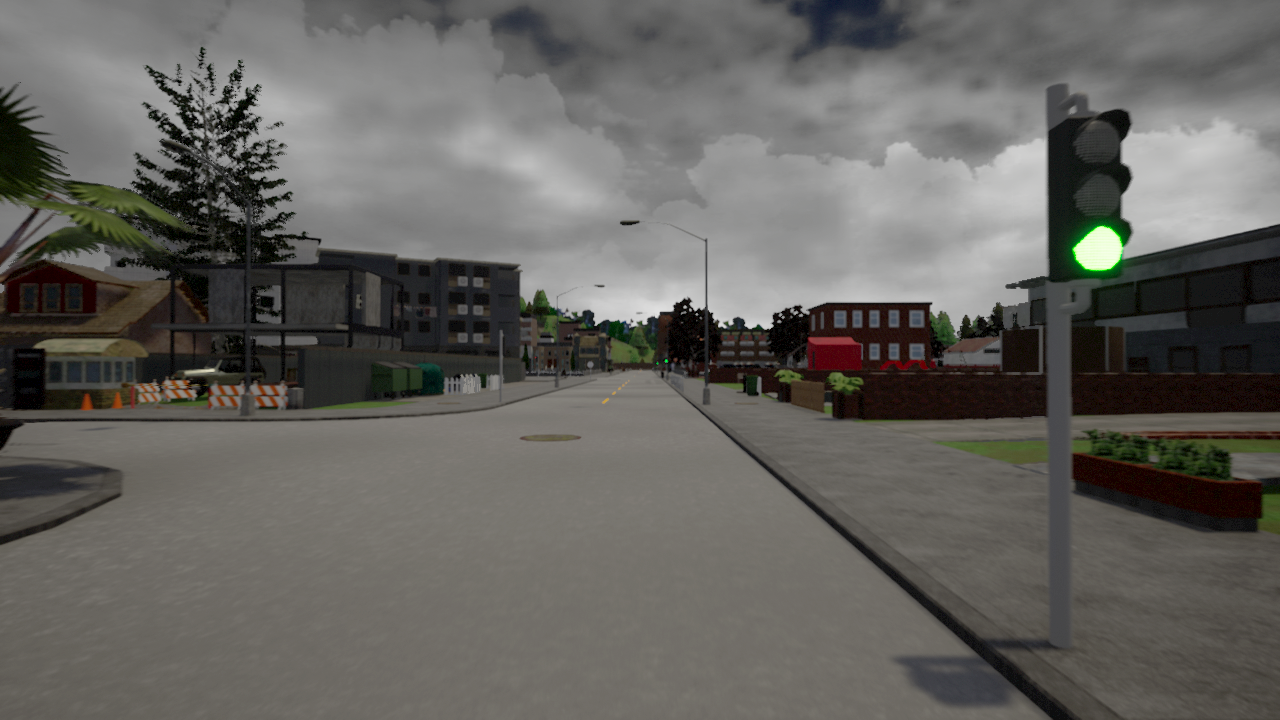green: (1054, 113, 1129, 287)
